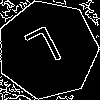L: (22, 25, 69, 78)
